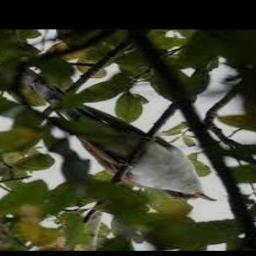Cuckoo: (19, 70, 216, 202)
